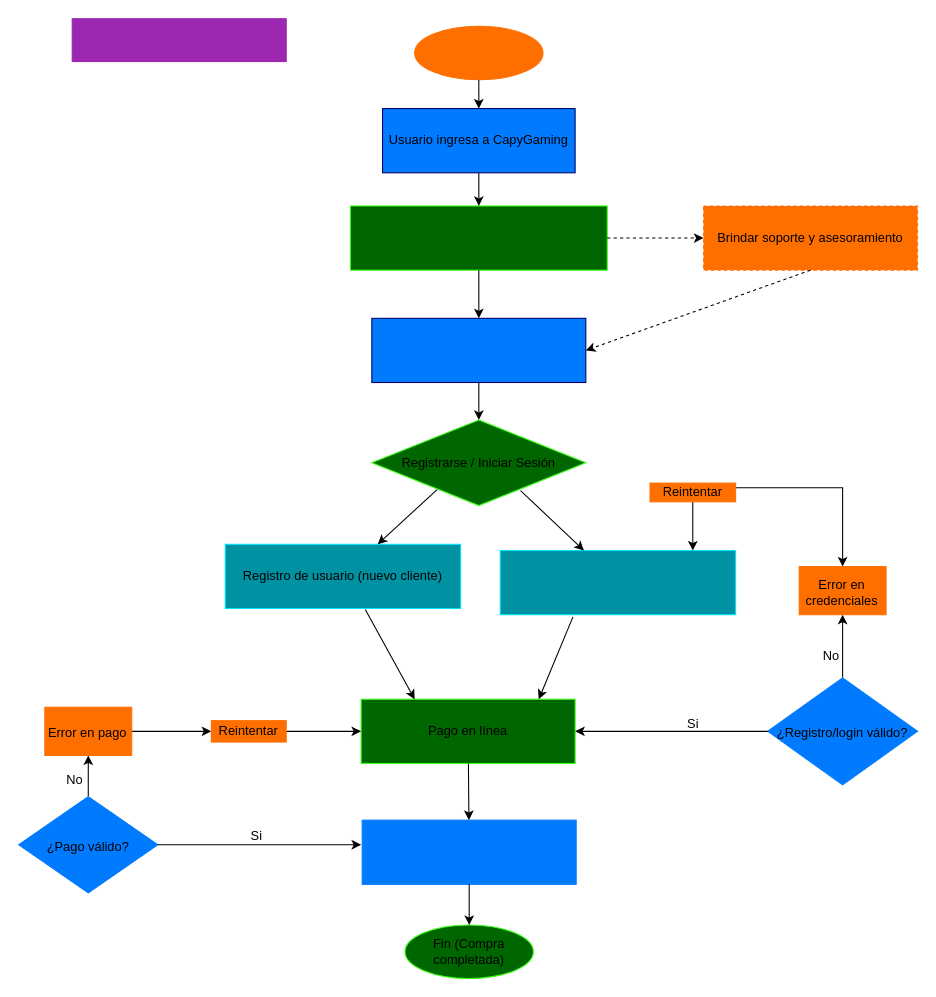
Some shapes in this 936 by 997 pixel diagram are drawn without their labels. Here are the shapes that lost their labels. From the top down, the centre of each, then its label:
[178,40]: Diagrama de Flujo "CapyGaming"
[478,52]: Inicio
[478,237]: Explorar productos y componentes gaming
[478,350]: Añadir el juego a comprar al carrito
[617,582]: Login (cliente existente)
[468,851]: Envío a todo el país
